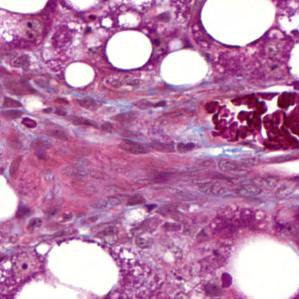steatosis: (104, 29, 155, 71), (162, 47, 211, 85), (64, 59, 96, 88)
